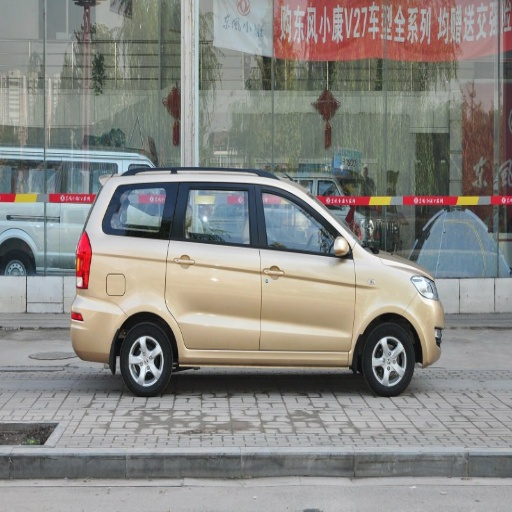back_right_door: (129, 183, 258, 350)
front_right_door: (257, 183, 355, 354)
trunk: (82, 299, 125, 339)
